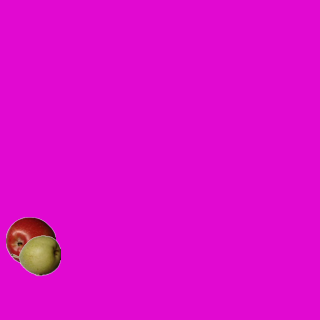Apple Braeburn: (5, 216, 55, 266)
Pear: (10, 230, 60, 280)
